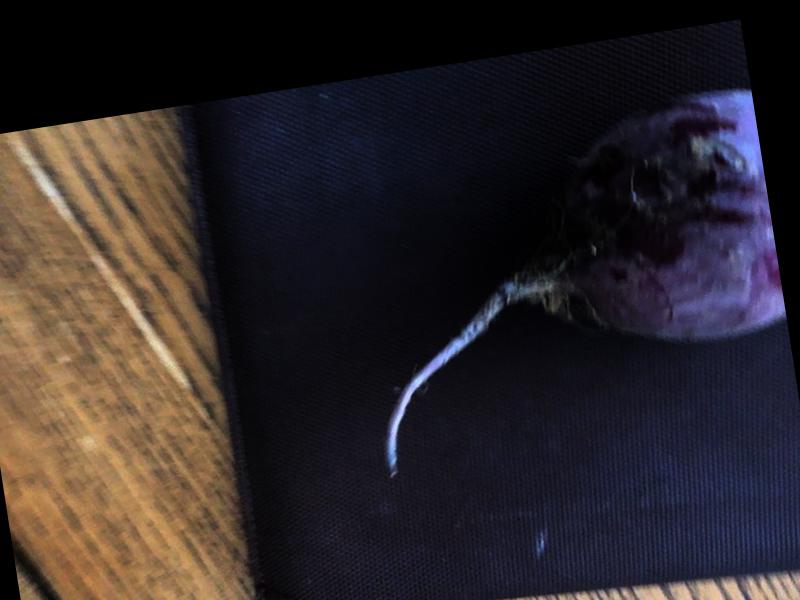Beet: (337, 86, 798, 474)
